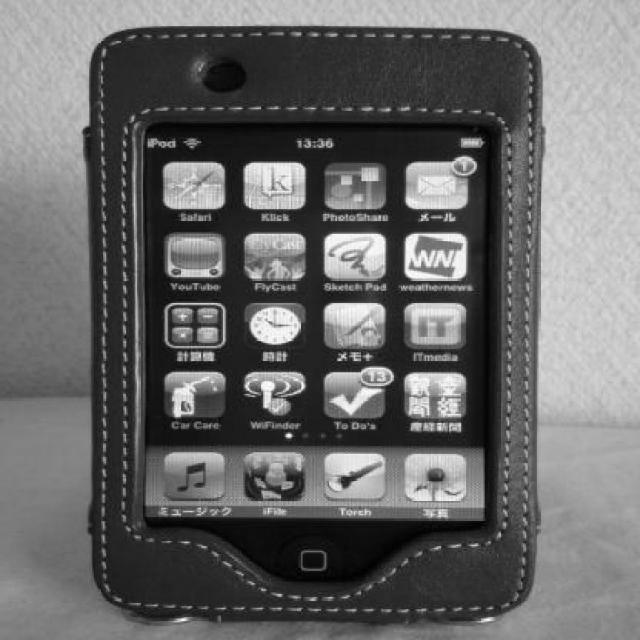fake: (62, 20, 540, 640)
